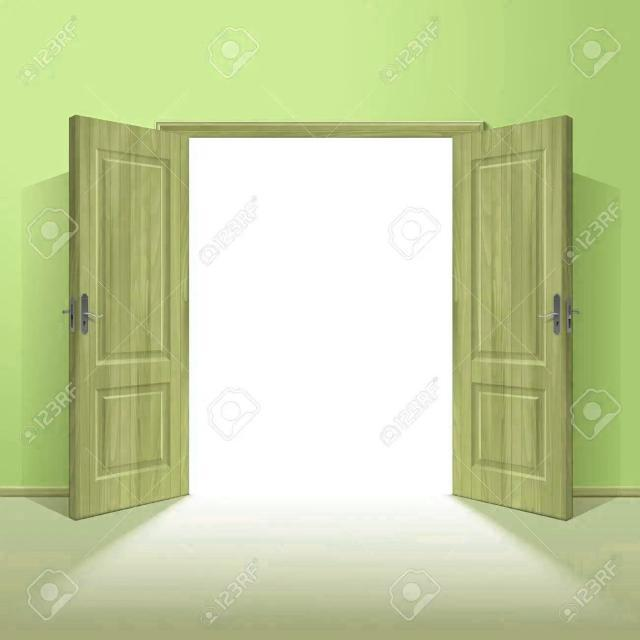door: (57, 98, 595, 543)
